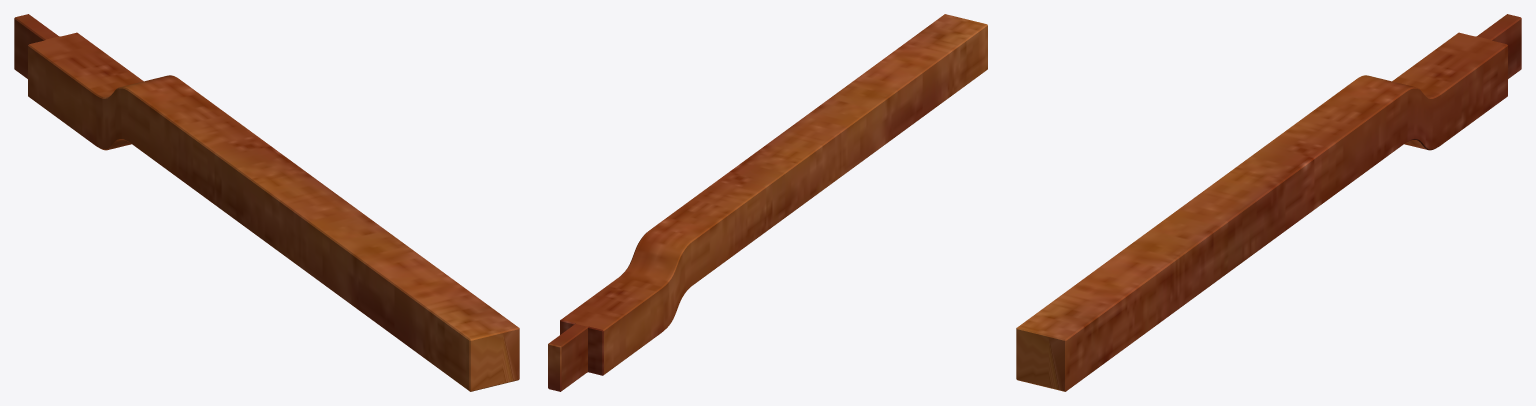
Rendered from baxianzhuo_J_luoguozhang_01.FBX.
The picture shows the model from 3 angles, left to right: view 1: azimuth 30°, elevation 25°; view 2: azimuth 150°, elevation 25°; view 3: azimuth 330°, elevation 25°; orthographic projection. The views are drawn at different scales.
Parts seen in each view (by area): view 1: baxianzhuo_J_luoguozhang_01; view 2: baxianzhuo_J_luoguozhang_01; view 3: baxianzhuo_J_luoguozhang_01.
Boxes of the visible parts, x1=… form: baxianzhuo_J_luoguozhang_01: x1=14, y1=14, x2=519, y2=391; baxianzhuo_J_luoguozhang_01: x1=548, y1=14, x2=987, y2=391; baxianzhuo_J_luoguozhang_01: x1=1016, y1=14, x2=1521, y2=391.
Size of the model in its own units: 2.8 by 4.3 by 45.6.
Materials: 1 (1 with a texture image).
